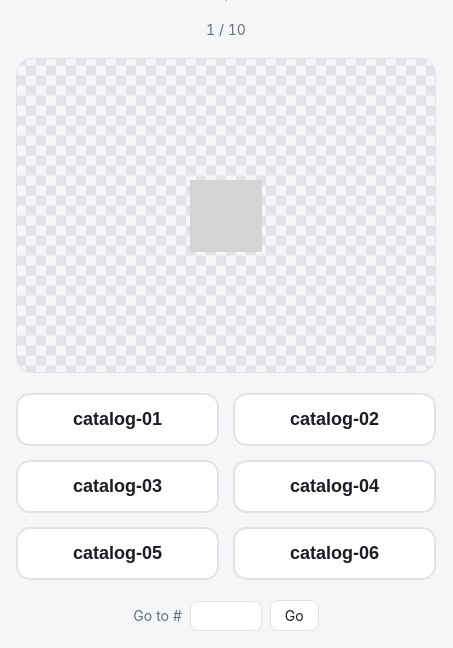
Scenario: PictureQuizPage › jumping to a typed position lands on that word in the catalog's own order
(page scrolled)
In the number field labelled "Go to #": (226, 616) [190, 600, 262, 630], type "7"
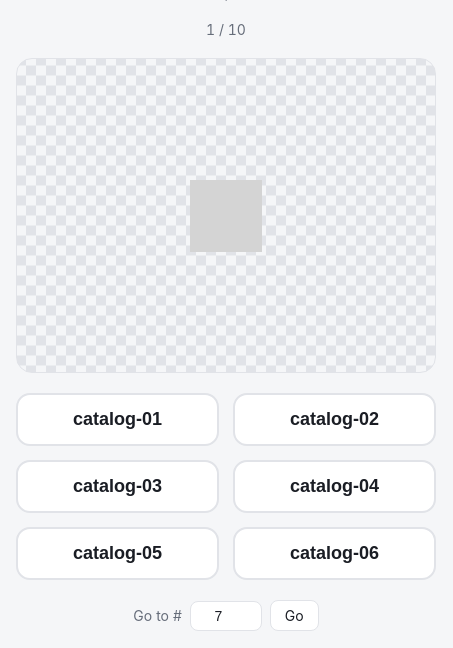
Click the button "Go": (294, 616) [270, 600, 319, 631]
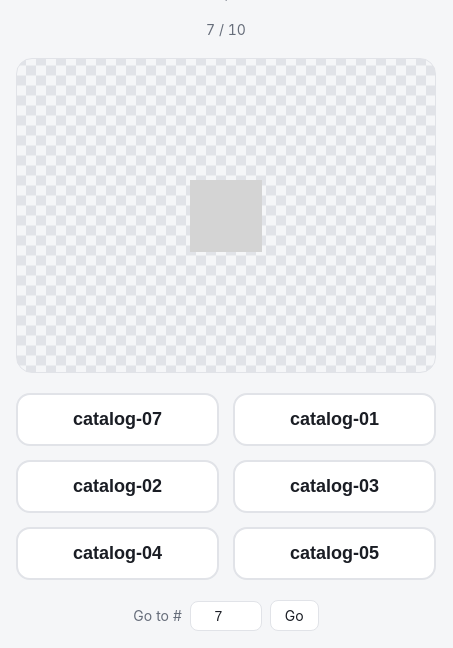
expect the text "7 / 10" is shown: met, box [206, 21, 246, 38]
expect the button "catalog-07" is shown: met, box [16, 393, 219, 446]
